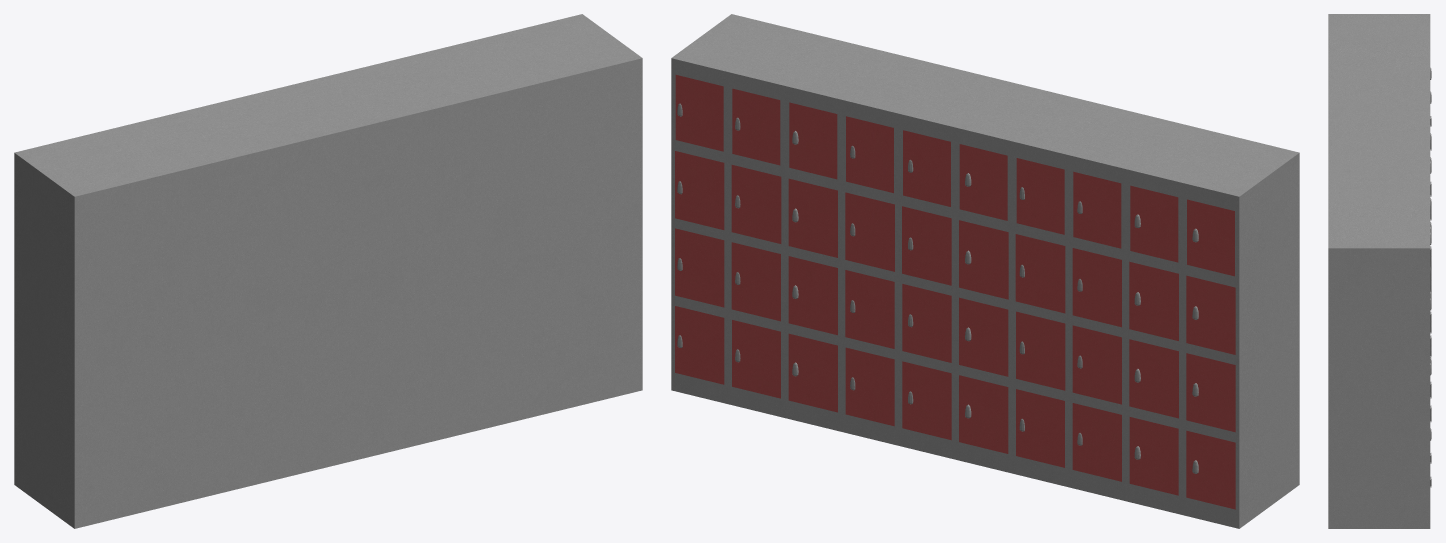
The model's file is ARMARIO LOCKER RED.fbx.
3 renders of one model, left to right at view 1: azimuth 30°, elevation 25°; view 2: azimuth 150°, elevation 25°; view 3: azimuth 270°, elevation 25°, orthographic. The views are drawn at different scales.
Parts seen in each view (by area): view 1: Cube.003; view 2: Cube.003; view 3: Cube.003.
Boxes of the visible parts, x1=… form: Cube.003: x1=14, y1=14, x2=642, y2=528; Cube.003: x1=671, y1=14, x2=1299, y2=528; Cube.003: x1=1328, y1=14, x2=1431, y2=528.
Size of the model in its own units: 4.5 by 2.52 by 0.8384.
2 materials, 2 textured.
